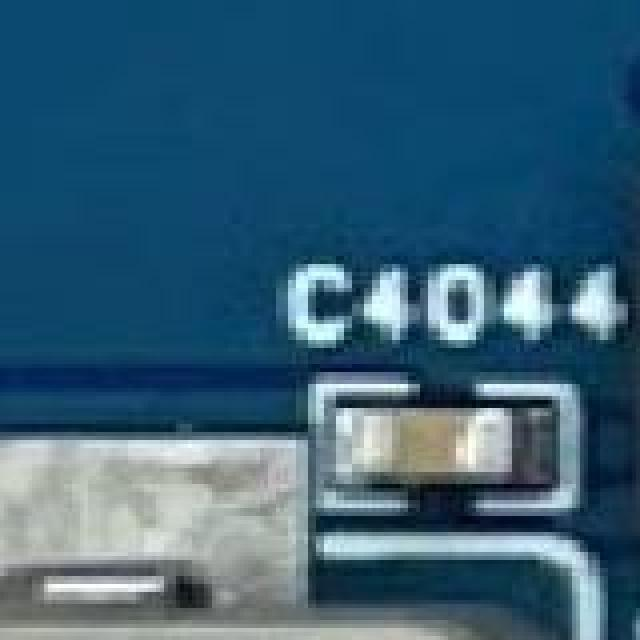IC: (636, 68, 640, 640)
capacitor: (344, 404, 550, 496)
inductor: (0, 524, 584, 640)
